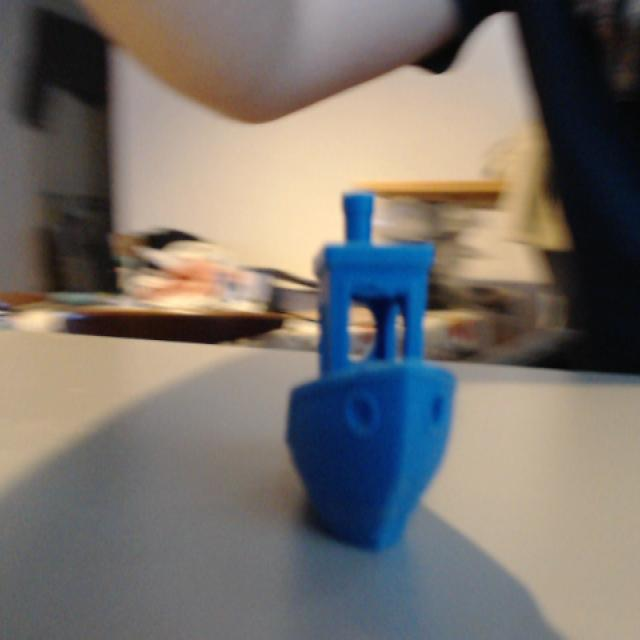benchy: (282, 187, 459, 550)
